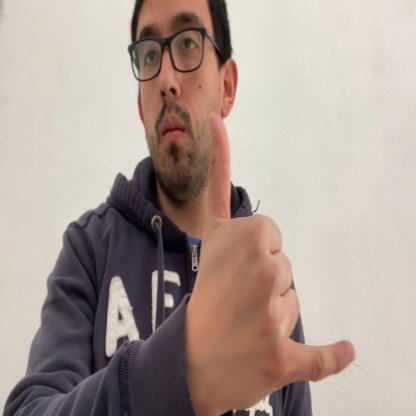Y: (194, 114, 356, 408)
